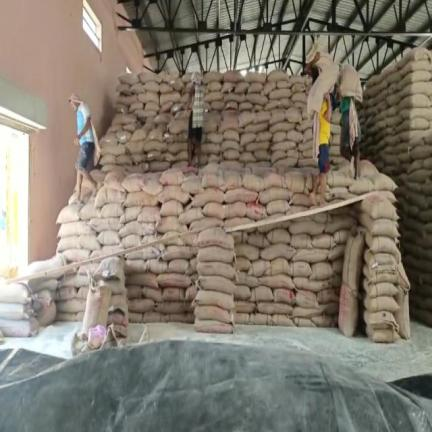Zone-Counting: (307, 65, 337, 202), (338, 64, 362, 178)
